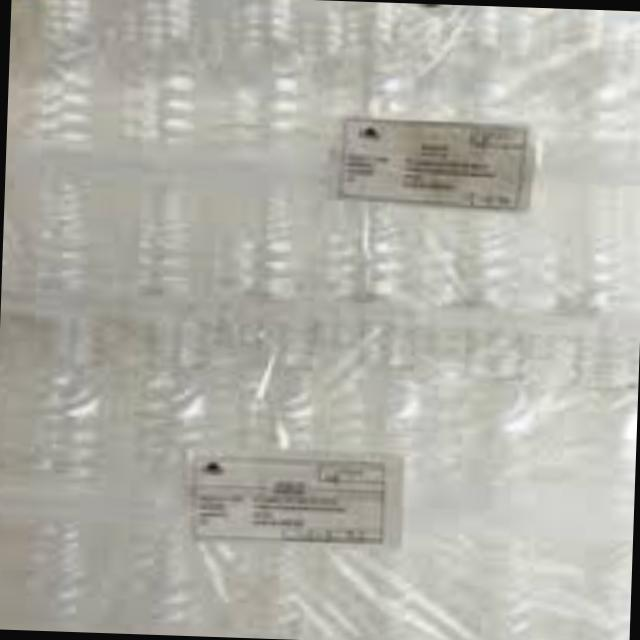trash: (384, 12, 544, 324), (478, 24, 630, 340), (179, 0, 331, 299), (277, 11, 424, 320), (0, 0, 137, 329), (0, 314, 136, 633), (101, 0, 226, 320), (137, 317, 259, 638), (232, 327, 348, 618), (519, 339, 639, 612), (305, 338, 442, 566), (430, 330, 531, 618), (586, 9, 640, 321)
